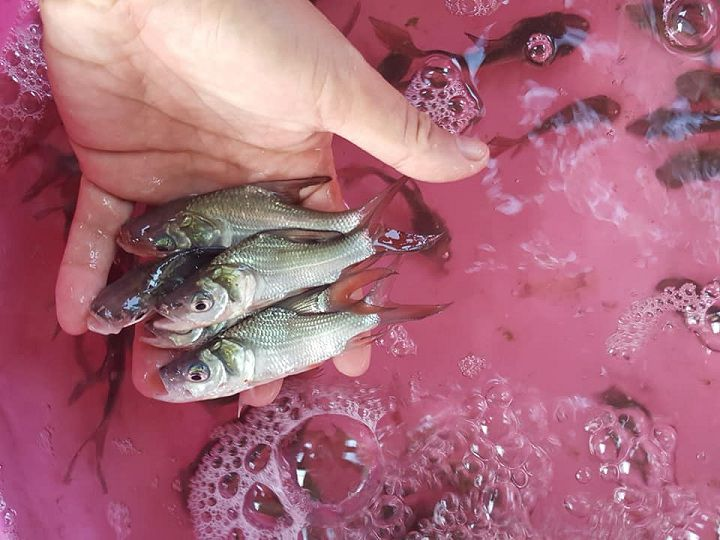fish: (152, 328, 315, 413), (173, 246, 311, 324), (112, 197, 258, 246), (73, 269, 152, 327)
